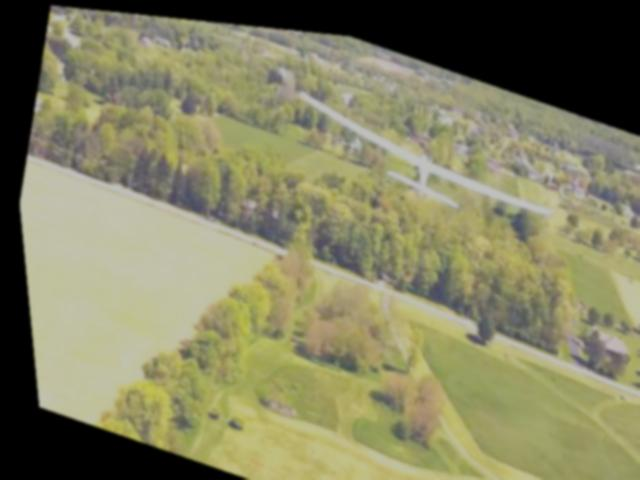iha: (285, 75, 563, 229)
